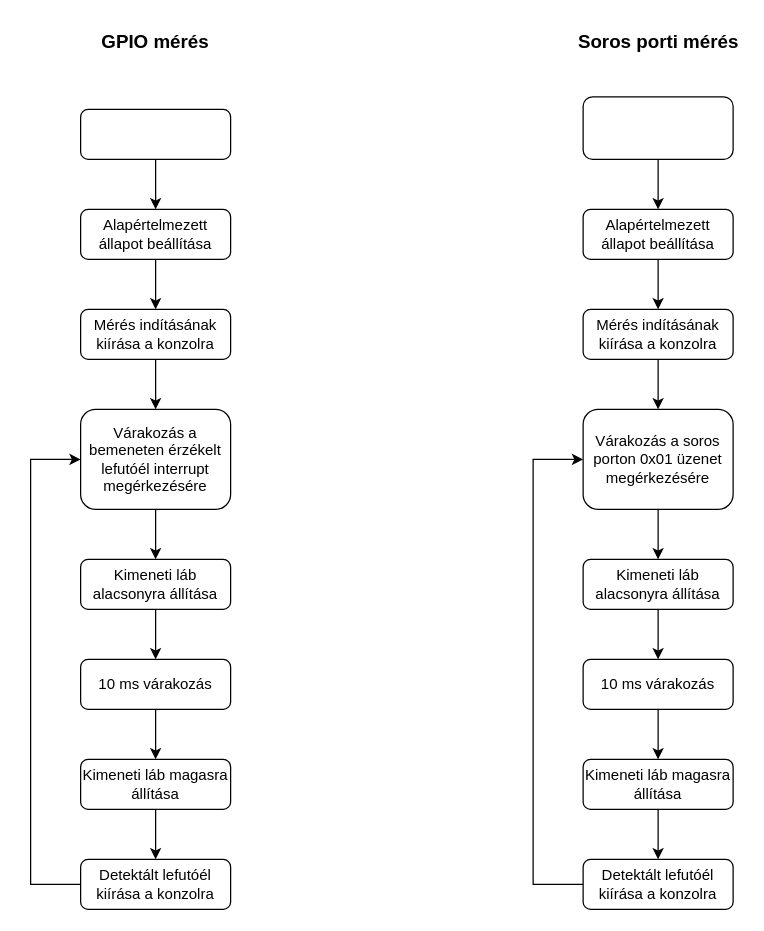
Some shapes in this 764 by 931 pixel diagram are drawn without their labels. Here are the shapes that lost their labels. From the top down, the centre of each, then its label:
pixel 155 133: Bemeneti és kimeneti láb inicializálása
pixel 657 127: Soros port és kimeneti láb inicializálása
